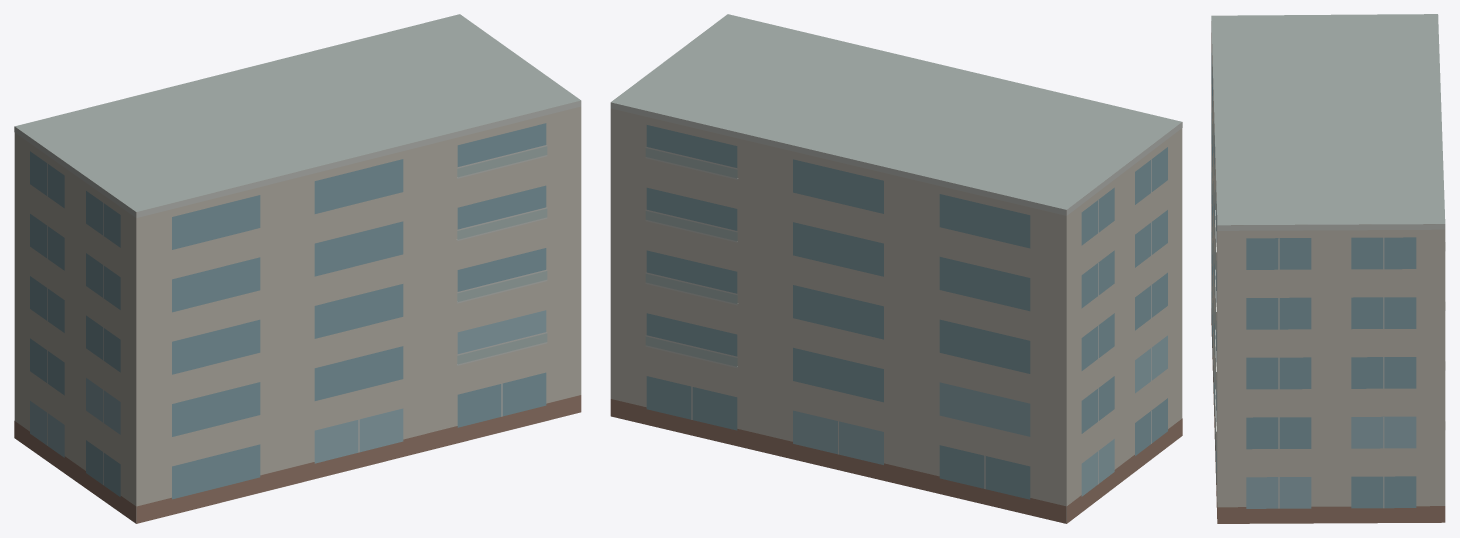
Rendered from survey-upis-32936477.glb.
The picture shows the model from 3 angles, left to right: view 1: azimuth 30°, elevation 25°; view 2: azimuth 150°, elevation 25°; view 3: azimuth 270°, elevation 25°; orthographic projection. The views are drawn at different scales.
Visible parts, largest first — view 1: survey-upis-32936477.tmp; view 2: survey-upis-32936477.tmp; view 3: survey-upis-32936477.tmp.
Boxes of the visible parts, x1,y1,x2,y2 form: survey-upis-32936477.tmp: (14, 14, 581, 523); survey-upis-32936477.tmp: (610, 14, 1182, 523); survey-upis-32936477.tmp: (1211, 14, 1445, 523).
Bounding box in the file's own units: 19.27 × 12.7 × 9.04.
